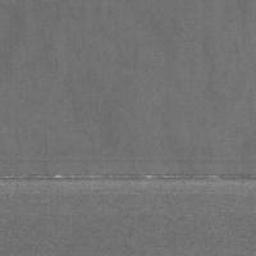Welding line: (0, 170, 256, 183)
